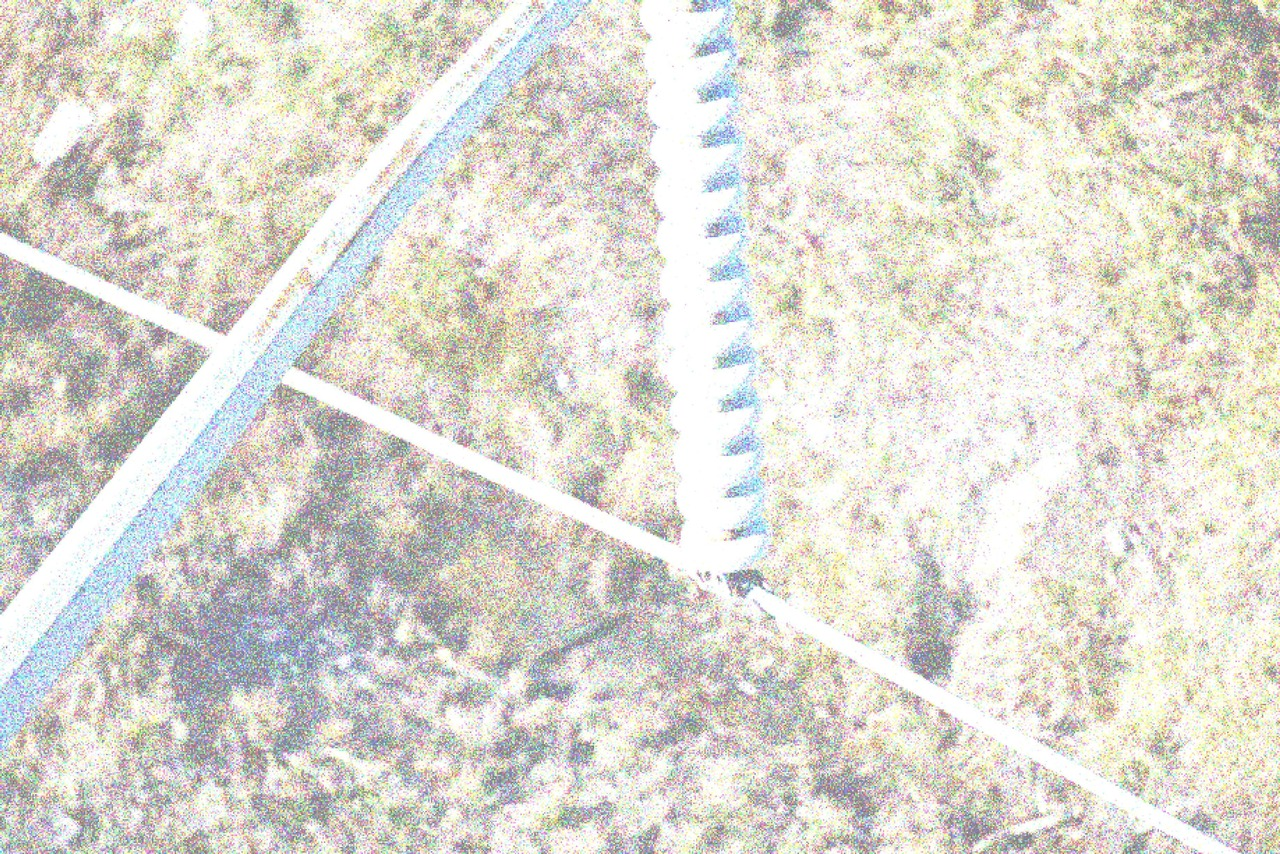Broken: (656, 260, 756, 313), (661, 347, 761, 400)
No issues: (655, 210, 751, 268), (641, 35, 742, 90), (664, 387, 763, 443), (645, 78, 741, 135), (650, 123, 746, 180), (651, 169, 747, 226), (670, 434, 767, 490), (672, 474, 769, 530), (677, 519, 774, 575), (639, 0, 739, 47), (662, 309, 758, 355)
String: (635, 0, 789, 585)
